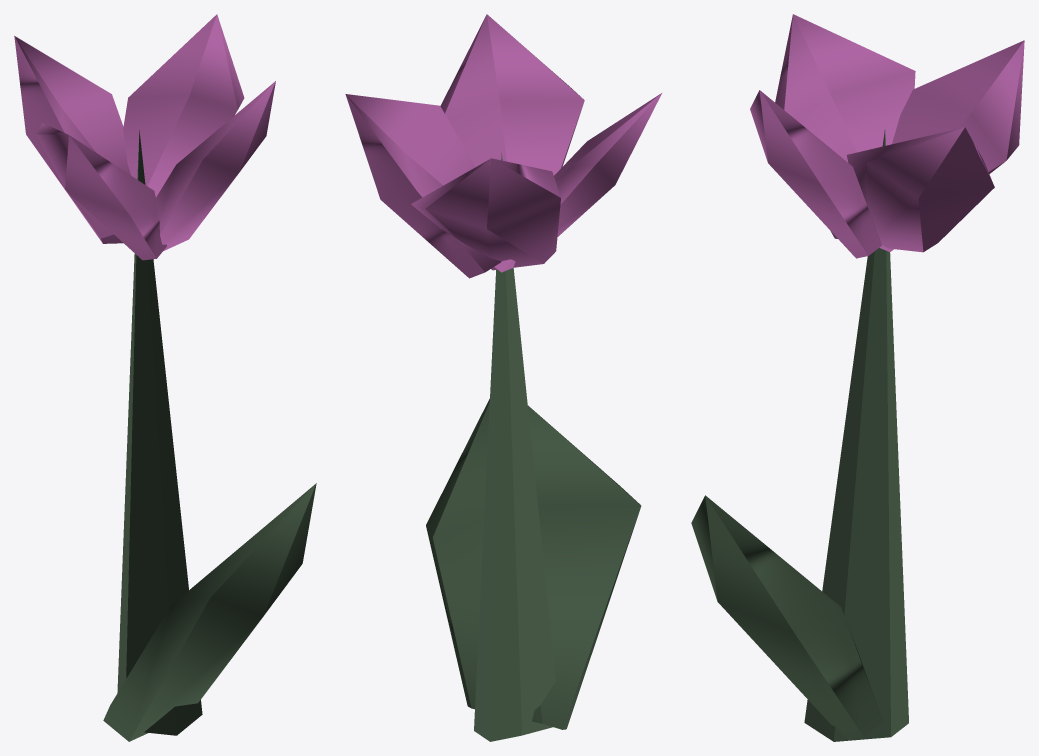
Rendered from single_flower.fbx.
The picture shows the model from 3 angles, left to right: view 1: azimuth 30°, elevation 25°; view 2: azimuth 150°, elevation 25°; view 3: azimuth 270°, elevation 25°; orthographic projection. The views are drawn at different scales.
Visible parts, largest first — view 1: flower_stem, leaf, flower_petal, flower_petal1, flower_petal3, flower_petal2; view 2: leaf, flower_stem, flower_petal3, flower_petal, flower_petal1, flower_petal2; view 3: flower_stem, leaf, flower_petal2, flower_petal, flower_petal1, flower_petal3.
Boxes of the visible parts, bbox=[...] form: flower_stem: bbox=[117, 130, 202, 735]; leaf: bbox=[103, 483, 316, 741]; flower_petal: bbox=[123, 14, 244, 196]; flower_petal1: bbox=[14, 36, 130, 243]; flower_petal3: bbox=[156, 81, 275, 250]; flower_petal2: bbox=[37, 123, 166, 260]; leaf: bbox=[426, 398, 641, 729]; flower_stem: bbox=[474, 152, 555, 741]; flower_petal3: bbox=[440, 14, 584, 175]; flower_petal: bbox=[345, 94, 501, 278]; flower_petal1: bbox=[411, 158, 560, 270]; flower_petal2: bbox=[494, 93, 661, 272]; flower_stem: bbox=[804, 129, 908, 741]; leaf: bbox=[691, 495, 883, 739]; flower_petal2: bbox=[775, 14, 915, 238]; flower_petal: bbox=[846, 127, 994, 252]; flower_petal1: bbox=[879, 40, 1024, 251]; flower_petal3: bbox=[750, 90, 881, 258].
Size of the model in its own units: 0.3498 by 0.9388 by 0.418.
